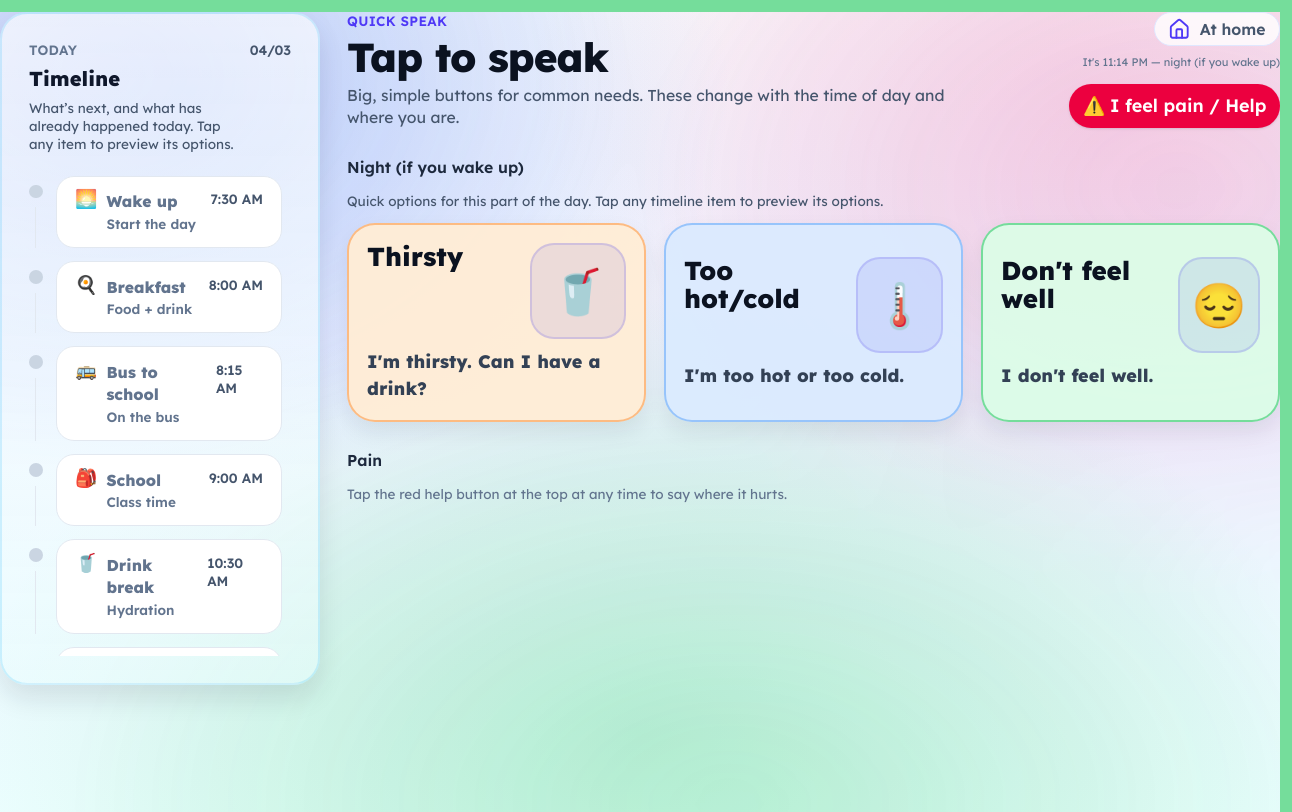
it: timeline item tap previews block options
The image size is (1292, 812).
Step 1. Click the button titled "preview breakfast options" → click(169, 297), box top-left (56, 261), bottom-right (282, 333)
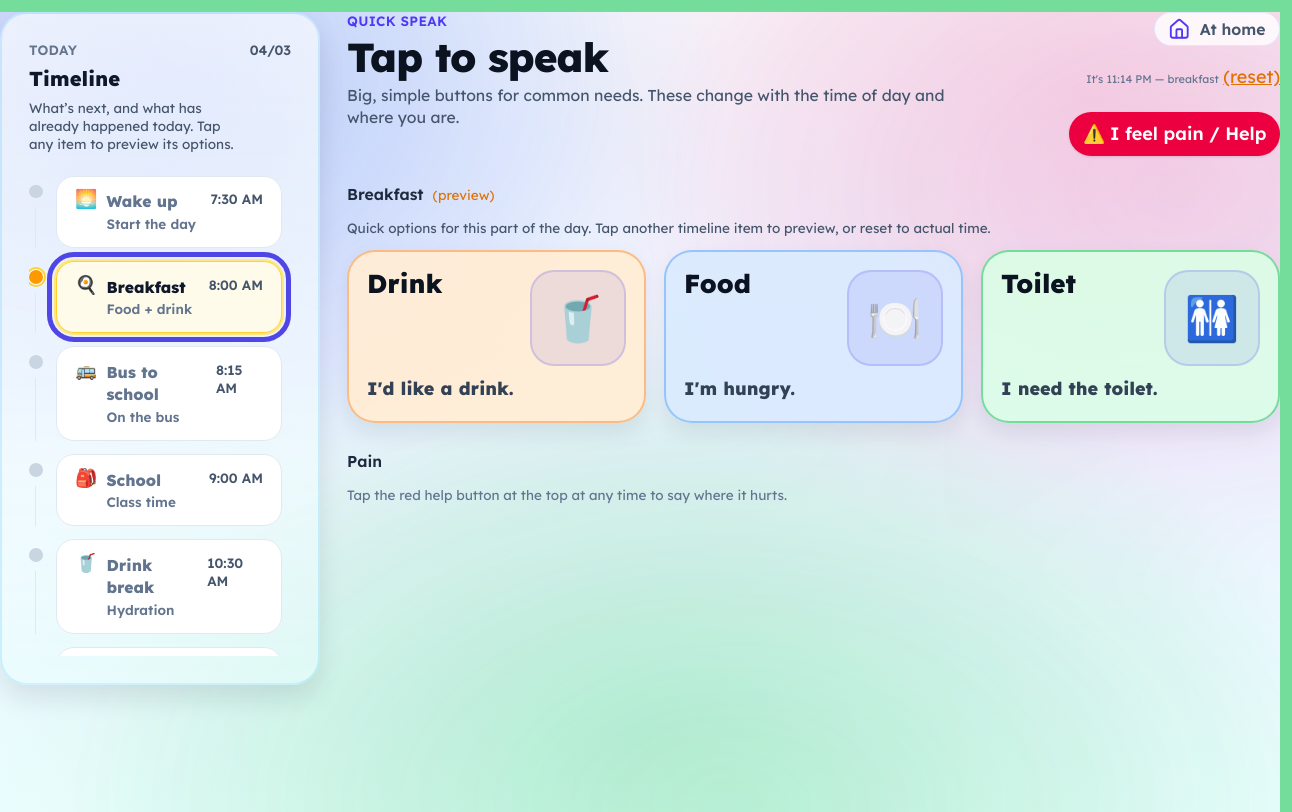
Check: the heading "Breakfast(preview)" is shown, box top-left (347, 184), bottom-right (494, 204)
Step 2. Click the button "(reset)" → click(1252, 76), box top-left (1223, 54), bottom-right (1280, 98)
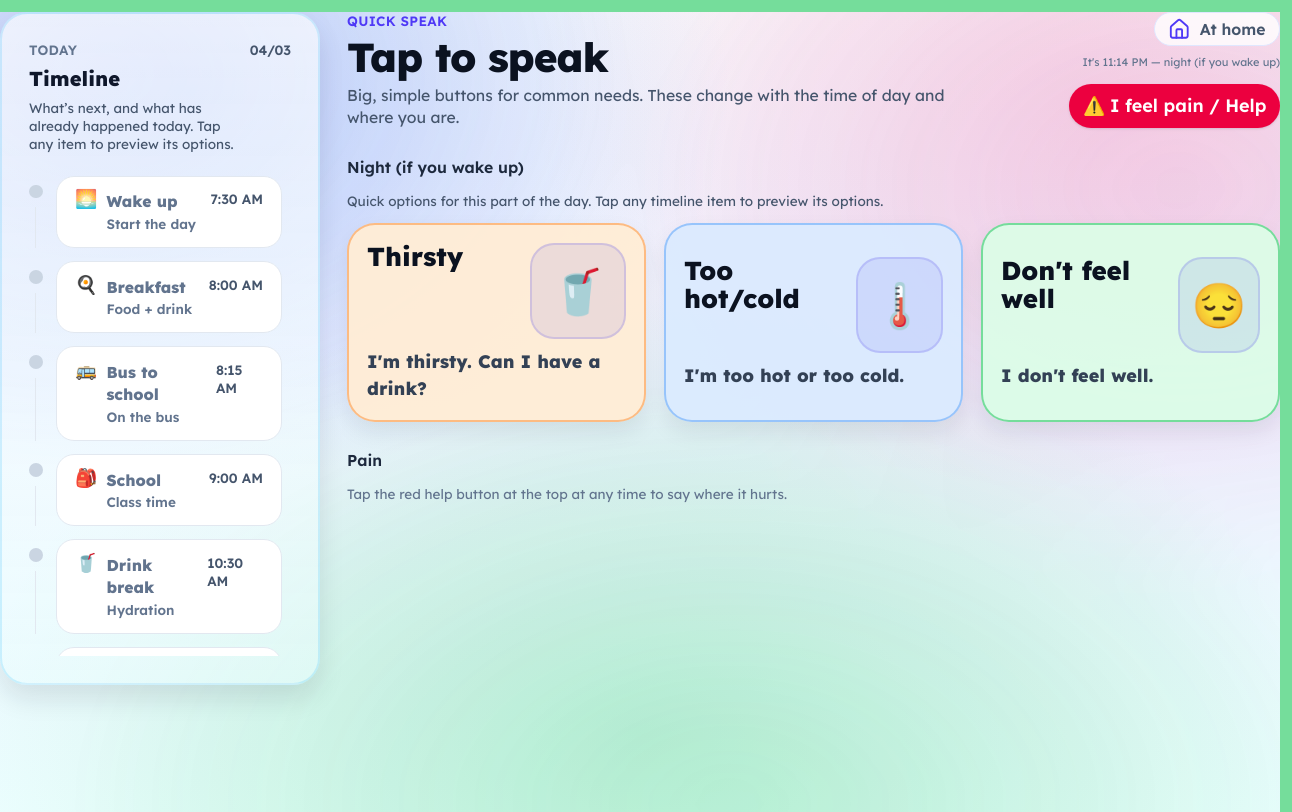
Check: the button "reset" is gone
